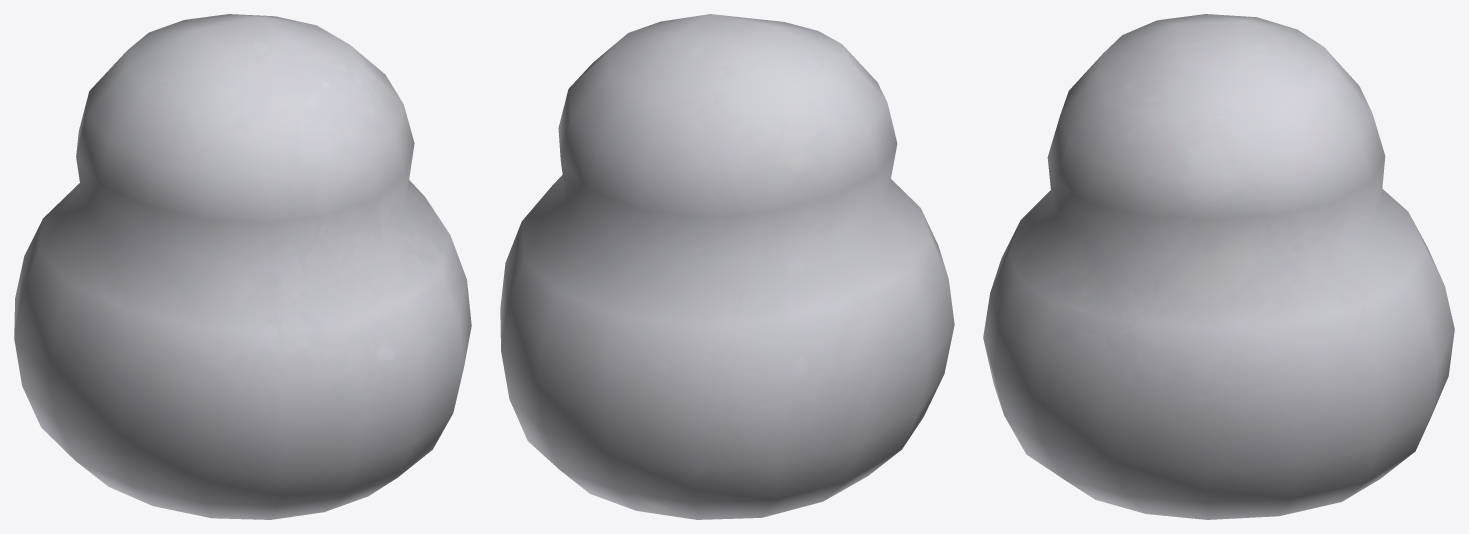
File: Homeworld_Exterior_Common_Prop_Thing_SnowmanBody_03_Vo.fbx
3 renders of one model, left to right at view 1: azimuth 30°, elevation 25°; view 2: azimuth 150°, elevation 25°; view 3: azimuth 270°, elevation 25°, orthographic.
Visible parts, largest first — view 1: Homeworld_Exterior_Common_Prop_Thing_SnowmanBody_03_Vo; view 2: Homeworld_Exterior_Common_Prop_Thing_SnowmanBody_03_Vo; view 3: Homeworld_Exterior_Common_Prop_Thing_SnowmanBody_03_Vo.
Part boxes in pixels (x1,y1,x2,y2): Homeworld_Exterior_Common_Prop_Thing_SnowmanBody_03_Vo: (14, 14, 471, 519); Homeworld_Exterior_Common_Prop_Thing_SnowmanBody_03_Vo: (500, 14, 954, 519); Homeworld_Exterior_Common_Prop_Thing_SnowmanBody_03_Vo: (983, 14, 1454, 519).
Bounding box in the file's own units: 0.8272 × 0.8581 × 0.857.
1 material, 1 textured.
